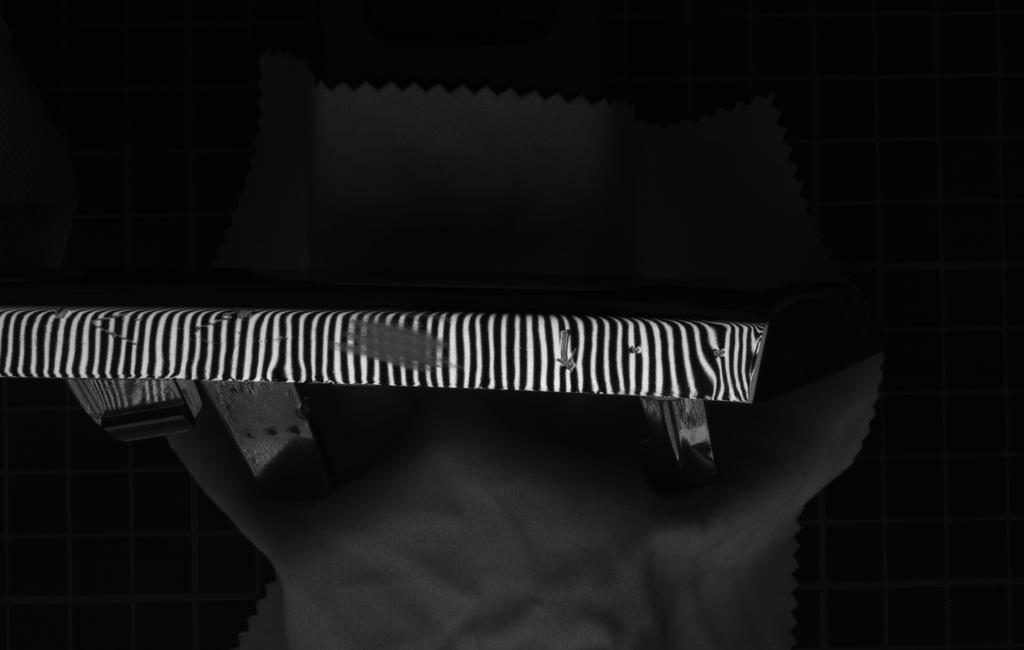Pierced: (622, 340, 650, 362), (705, 345, 732, 362), (53, 307, 74, 322)
Pitting: (336, 311, 459, 373)
Scratch: (88, 310, 154, 353), (188, 307, 256, 340), (556, 324, 582, 381)
